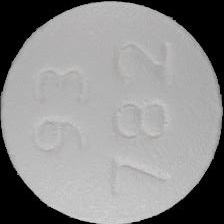0093-0782: (0, 0, 224, 224)
